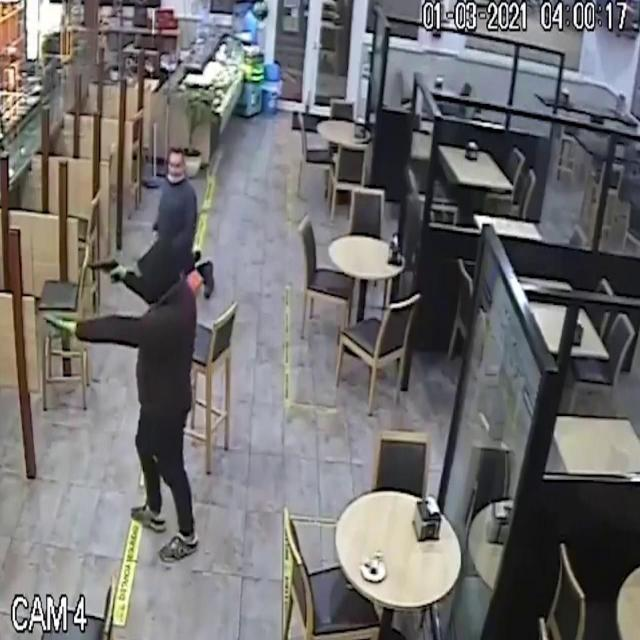weapon: (80, 246, 128, 296)
